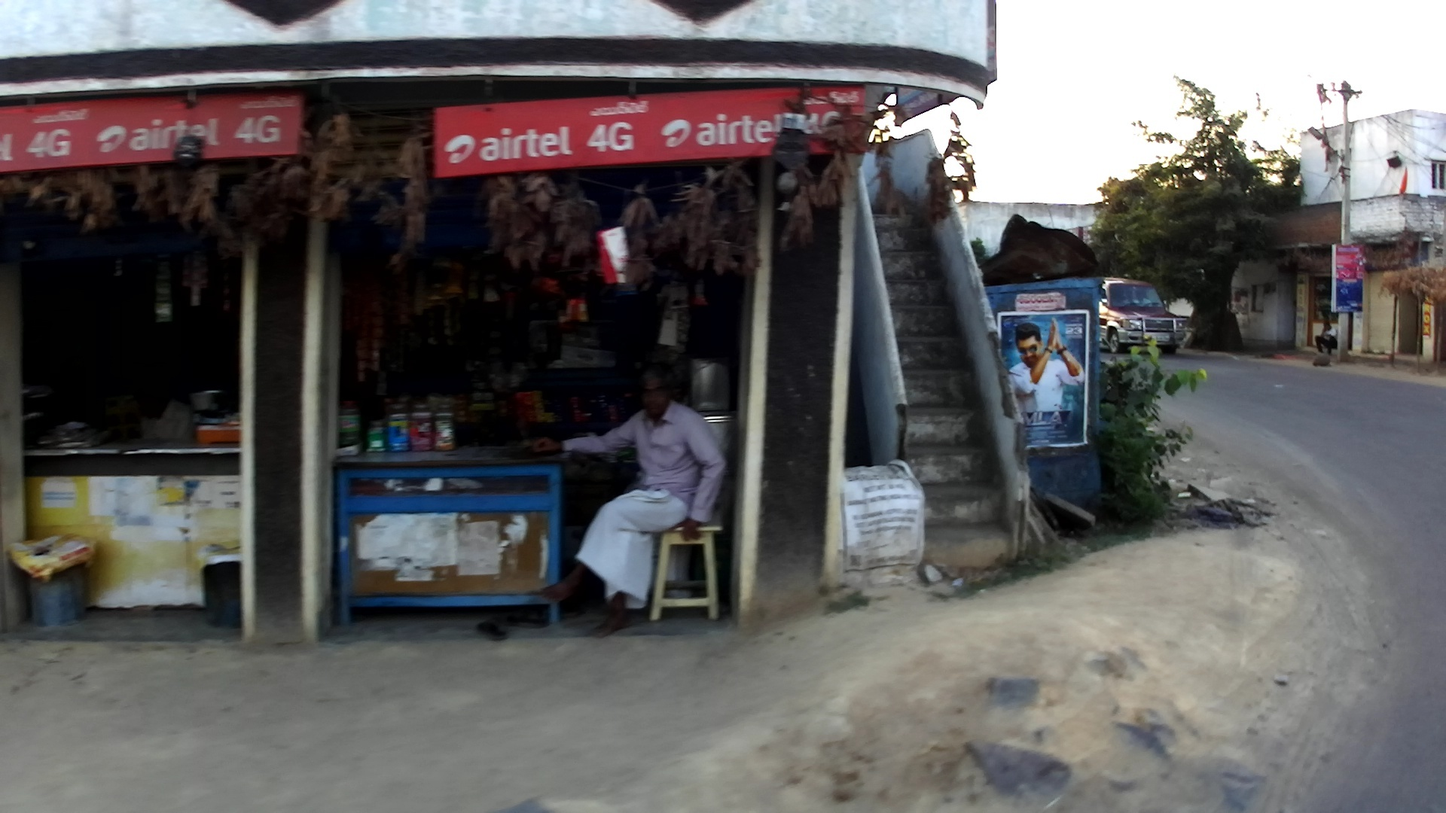car: (1099, 276, 1191, 355)
person: (532, 363, 729, 638), (1313, 319, 1339, 357)
